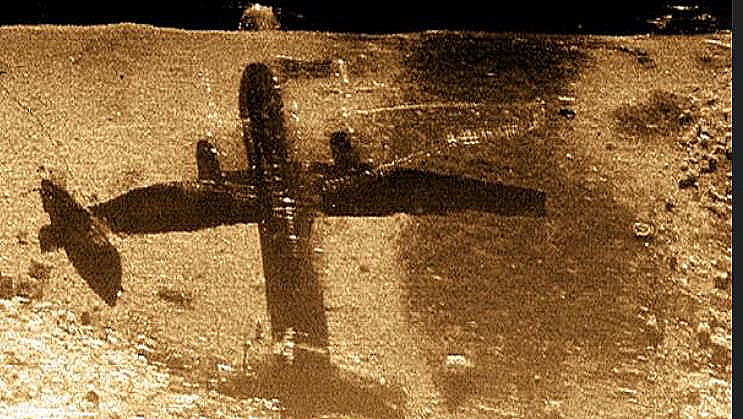aircraft: (15, 3, 550, 366)
